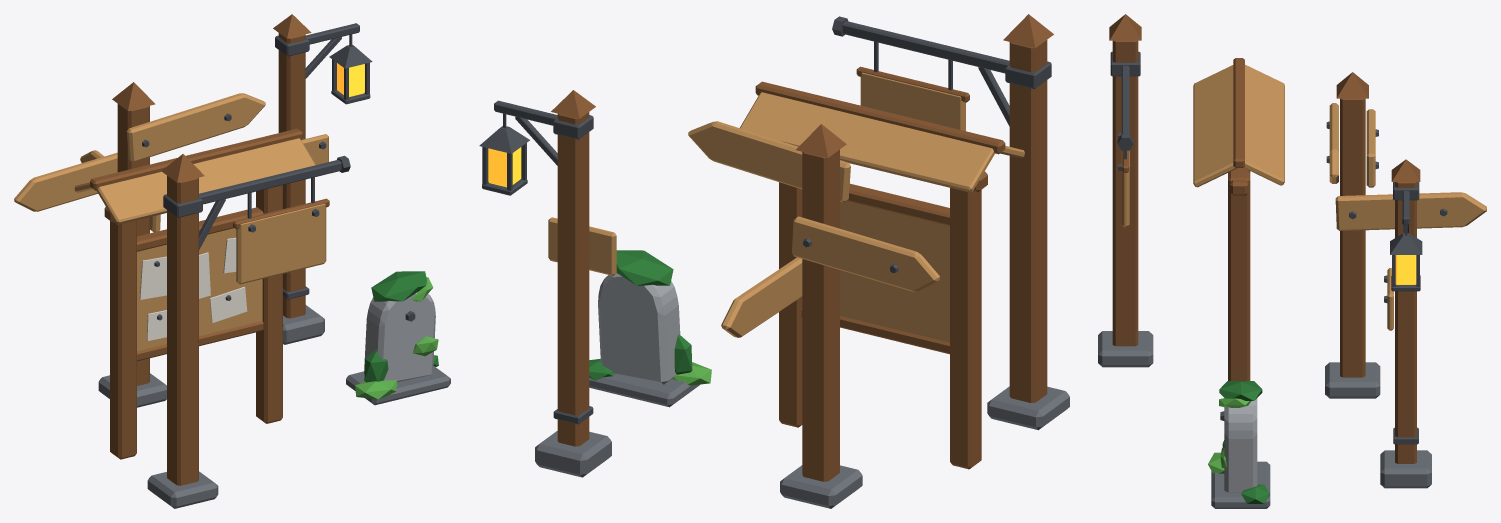
File: village-signs-set.glb
3 renders of one model, left to right at view 1: azimuth 30°, elevation 25°; view 2: azimuth 150°, elevation 25°; view 3: azimuth 270°, elevation 25°, orthographic. The views are drawn at different scales.
Parts seen in each view (by area): view 1: ShopSign_Post, NoticeBoard_PostL, NoticeBoard_RoofF, SignBoard, NoticeBoard_Board, Milestone_Stone, Signpost_Arrow1, NoticeBoard_PostR, LanternPost_Post, Signpost_Arrow2, NoticeBoard_Ridge, Signpost_Post (+23 smaller); view 2: ShopSign_Post, Signpost_Post, NoticeBoard_RoofB, LanternPost_Post, NoticeBoard_Board, NoticeBoard_PostL, Milestone_Stone, Signpost_Arrow2, Signpost_Arrow1, NoticeBoard_PostR, SignBoard, Signpost_Arrow3 (+18 smaller); view 3: ShopSign_Post, Signpost_Post, NoticeBoard_PostR, LanternPost_Post, NoticeBoard_RoofF, NoticeBoard_RoofB, Signpost_Arrow3, Milestone_Stone, LanternPost_Base, ShopSign_Base, Signpost_Base, Milestone_Base (+12 smaller).
Part boxes in pixels (<box>): ShopSign_Post: <box>167,175,198,485</box>; NoticeBoard_PostL: <box>110,220,136,459</box>; NoticeBoard_RoofF: <box>96,138,315,224</box>; SignBoard: <box>236,203,326,284</box>; NoticeBoard_Board: <box>137,228,262,351</box>; Milestone_Stone: <box>364,292,435,382</box>; Signpost_Arrow1: <box>126,93,265,162</box>; NoticeBoard_PostR: <box>256,185,282,423</box>; LanternPost_Post: <box>278,33,305,318</box>; Signpost_Arrow2: <box>14,152,117,211</box>; NoticeBoard_Ridge: <box>90,128,302,190</box>; Signpost_Post: <box>117,104,149,385</box>; ShopSign_Post: <box>1009,40,1047,402</box>; Signpost_Post: <box>802,149,839,481</box>; NoticeBoard_RoofB: <box>740,92,994,192</box>; LanternPost_Post: <box>557,112,589,446</box>; NoticeBoard_Board: <box>840,200,949,342</box>; NoticeBoard_PostL: <box>950,188,981,469</box>; Milestone_Stone: <box>598,273,680,384</box>; Signpost_Arrow2: <box>792,216,939,291</box>; Signpost_Arrow1: <box>688,121,850,202</box>; NoticeBoard_PostR: <box>779,182,802,427</box>; SignBoard: <box>860,72,965,131</box>; Signpost_Arrow3: <box>721,257,802,337</box>; ShopSign_Post: <box>1112,40,1138,346</box>; Signpost_Post: <box>1340,98,1365,377</box>; NoticeBoard_PostR: <box>1228,170,1250,380</box>; LanternPost_Post: <box>1395,182,1416,463</box>; NoticeBoard_RoofF: <box>1193,65,1237,187</box>; NoticeBoard_RoofB: <box>1243,64,1284,185</box>; Signpost_Arrow3: <box>1335,192,1486,230</box>; Milestone_Stone: <box>1224,398,1257,492</box>; LanternPost_Base: <box>1380,450,1431,488</box>; ShopSign_Base: <box>1098,331,1153,367</box>; Signpost_Base: <box>1325,362,1380,398</box>; Milestone_Base: <box>1211,461,1270,508</box>.
Size of the model in its own units: 11.57 by 10.3 by 10.57.
